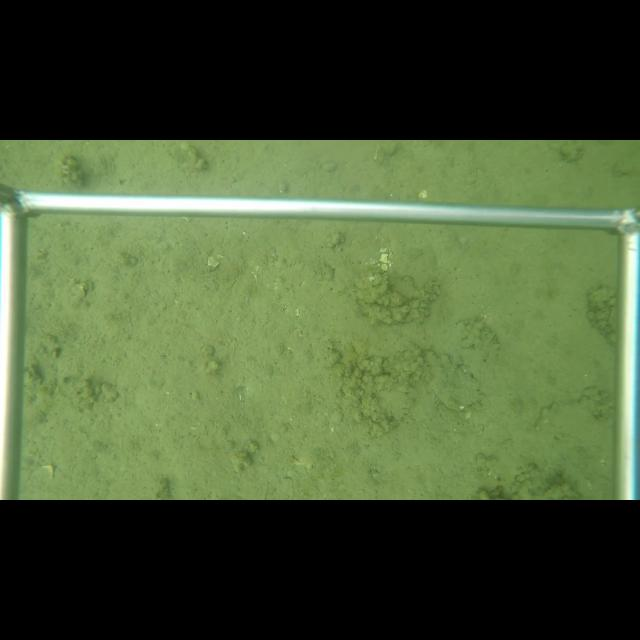Oyster-Indeterminate: (421, 348, 484, 414)
